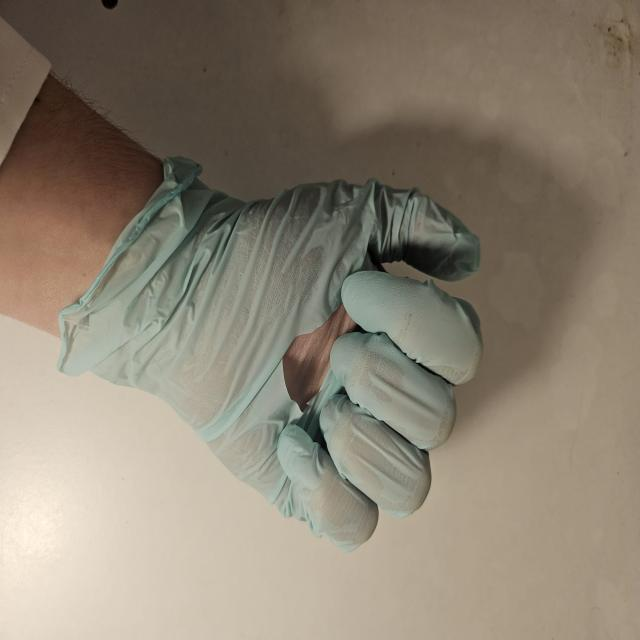gloves_damaged: (56, 153, 483, 537)
